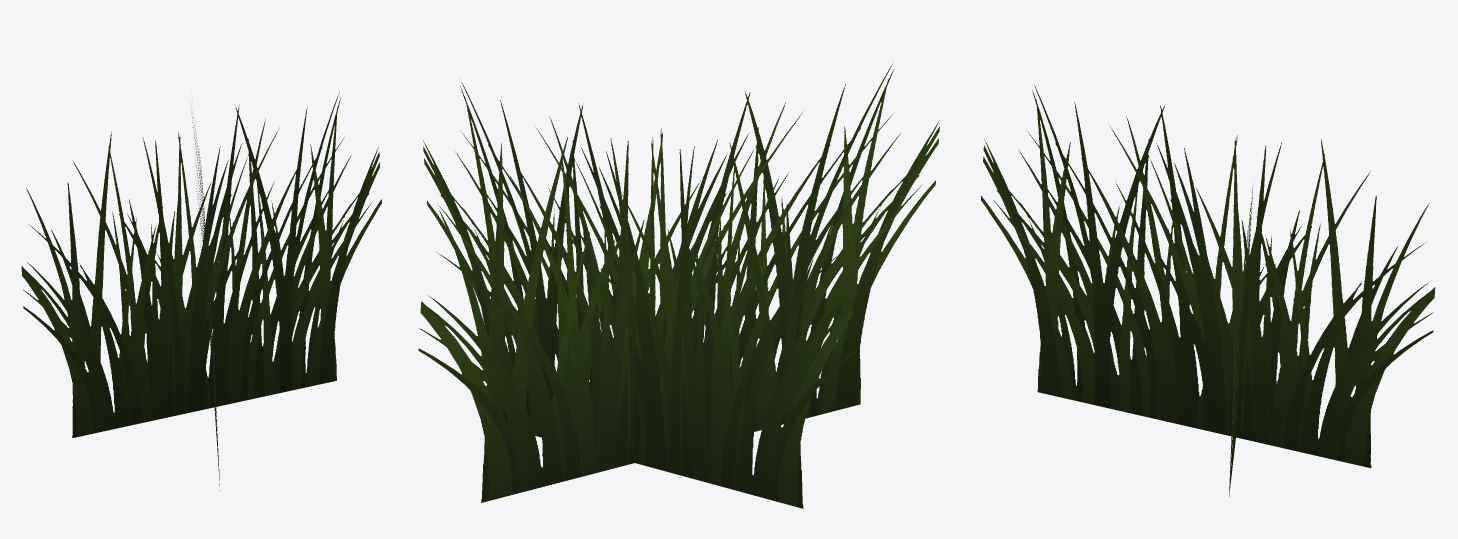
Rendered from grass_1_burnt3.glb.
3 renders of one model, left to right at view 1: azimuth 30°, elevation 25°; view 2: azimuth 150°, elevation 25°; view 3: azimuth 270°, elevation 25°, orthographic. The views are drawn at different scales.
Visible parts, largest first — view 1: grass_1_burnt3; view 2: grass_1_burnt3; view 3: grass_1_burnt3.
Boxes of the visible parts, box(x1,y1,x2,y2) form: grass_1_burnt3: box(21, 91, 381, 490); grass_1_burnt3: box(418, 62, 939, 508); grass_1_burnt3: box(981, 85, 1435, 496).
Size of the model in its own units: 0.5259 by 0.4413 by 0.5679.
Materials: 1 (1 with a texture image).
